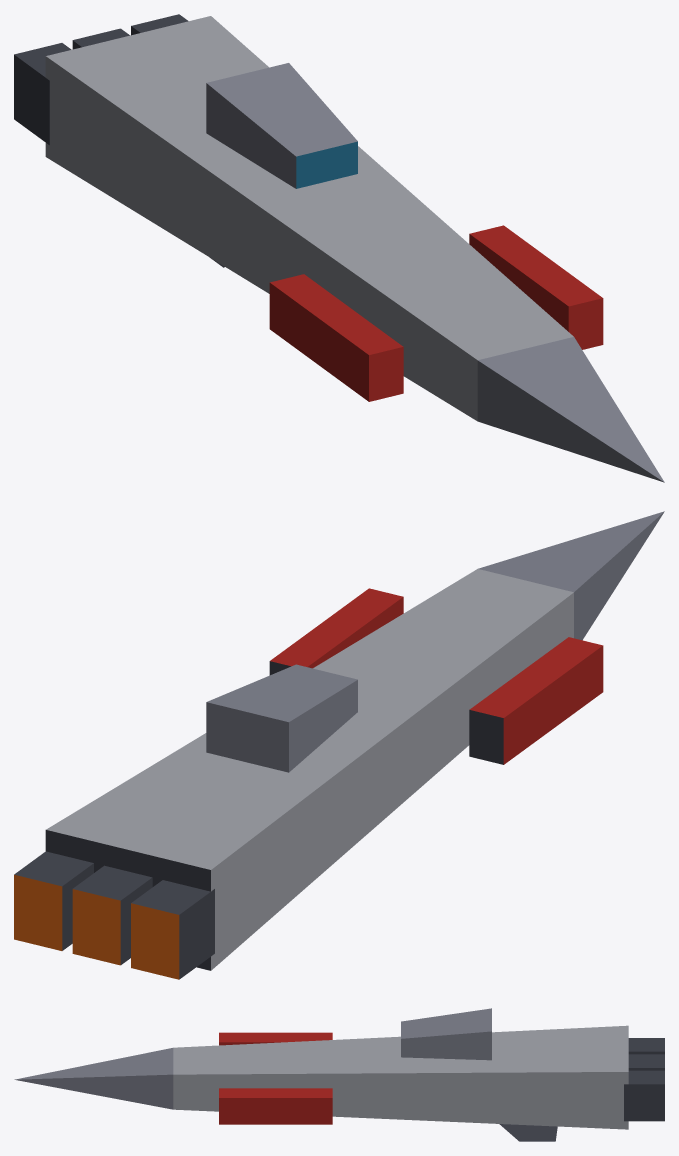
Rendered from dread.obj.
3 views of the same model, one above another, from view 1: azimuth 30°, elevation 25°; view 2: azimuth 150°, elevation 25°; view 3: azimuth 270°, elevation 25° (orthographic). The views are drawn at different scales.
Size of the model in its own units: 6.8 by 5.9 by 28.6.
